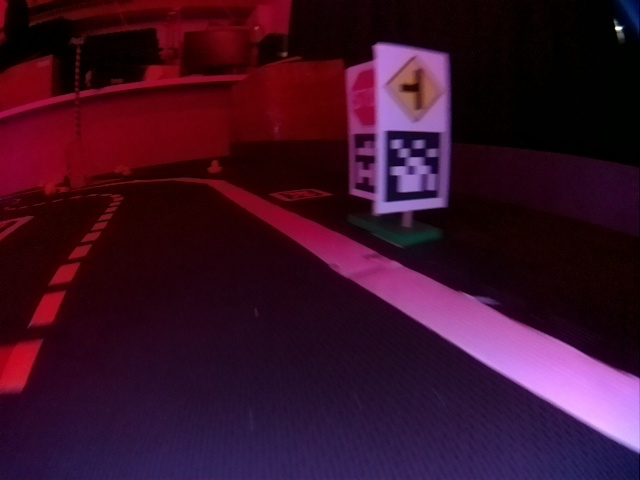Duckie: (208, 160, 221, 172), (122, 166, 130, 176)
Intersection sign: (385, 54, 441, 122)
QR code: (386, 130, 441, 202), (353, 132, 376, 193), (271, 187, 332, 202)
Stop sign: (352, 69, 376, 124)
